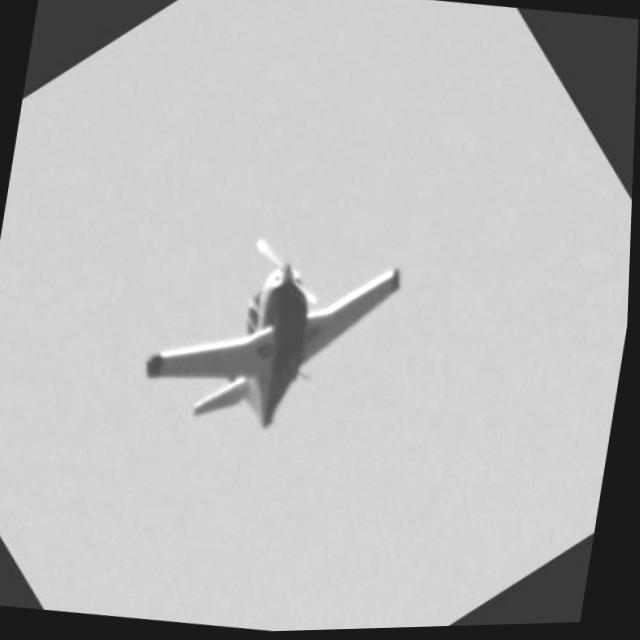aeroplane: (90, 144, 459, 500)
